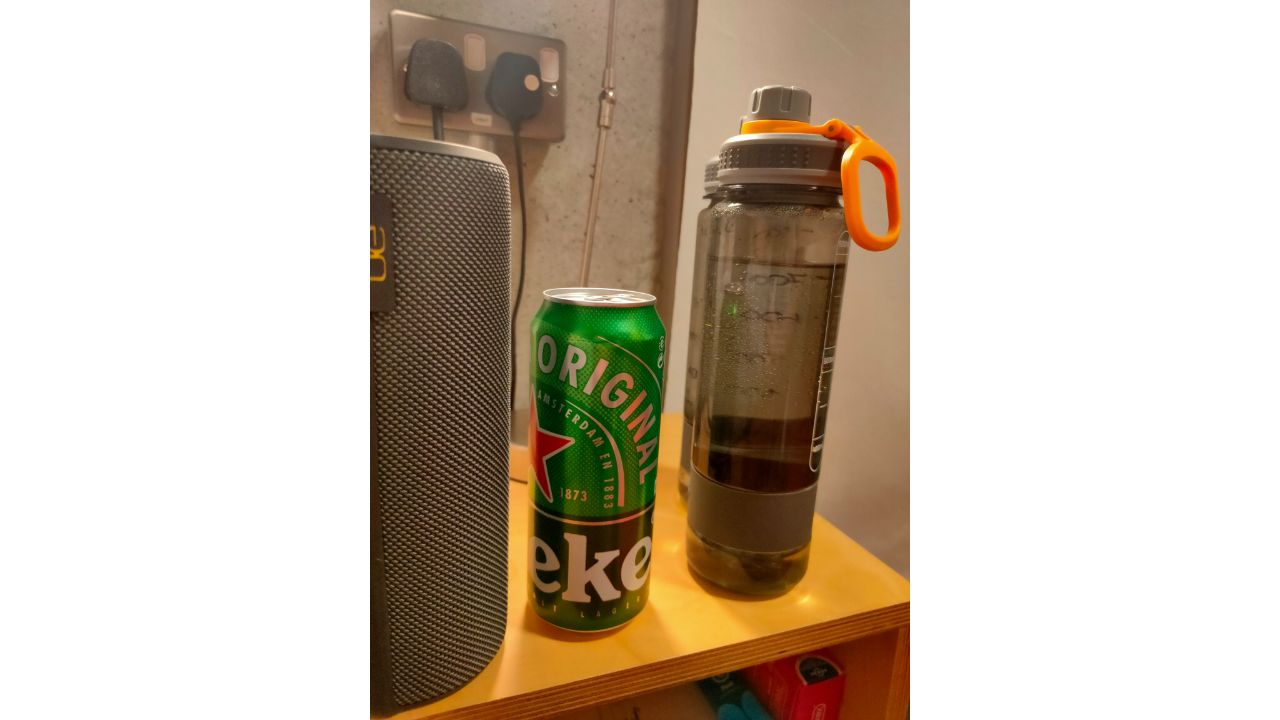Can: (524, 287, 665, 636)
